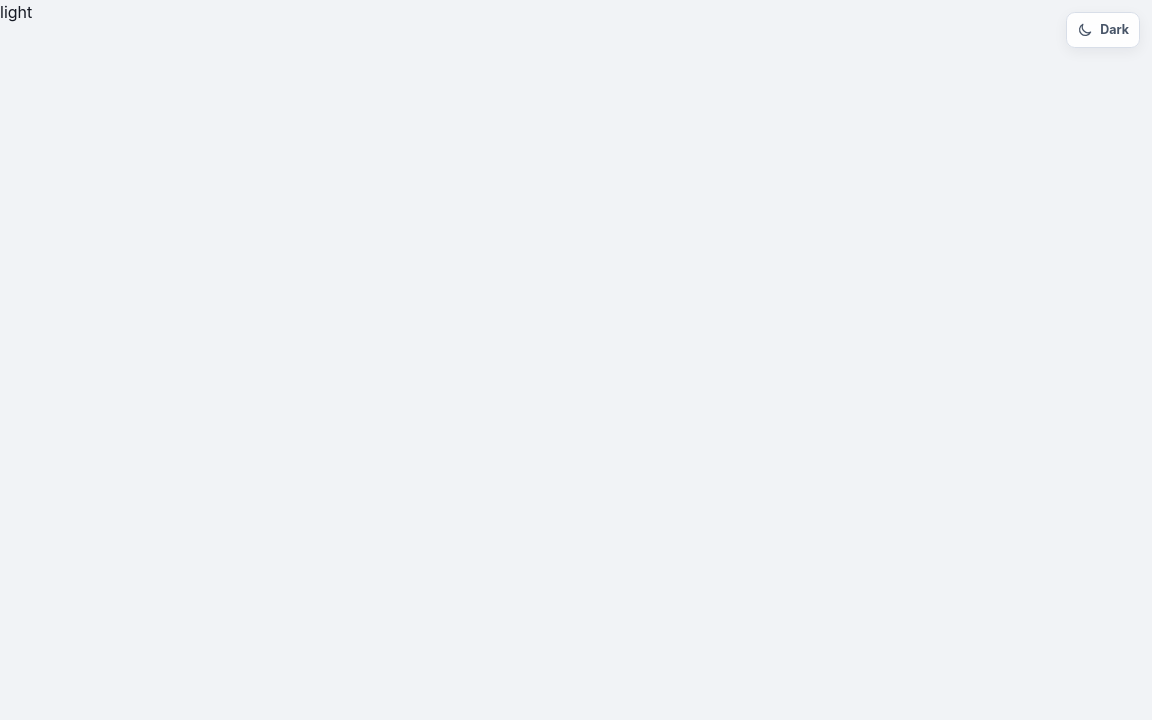
it: ThemeToggle / ThemeContext (theme restoration) › toggles the theme on click and persists the choice
Click the button with aria-label "switch to dark mode" at (1103, 30), box [1066,12,1140,48]
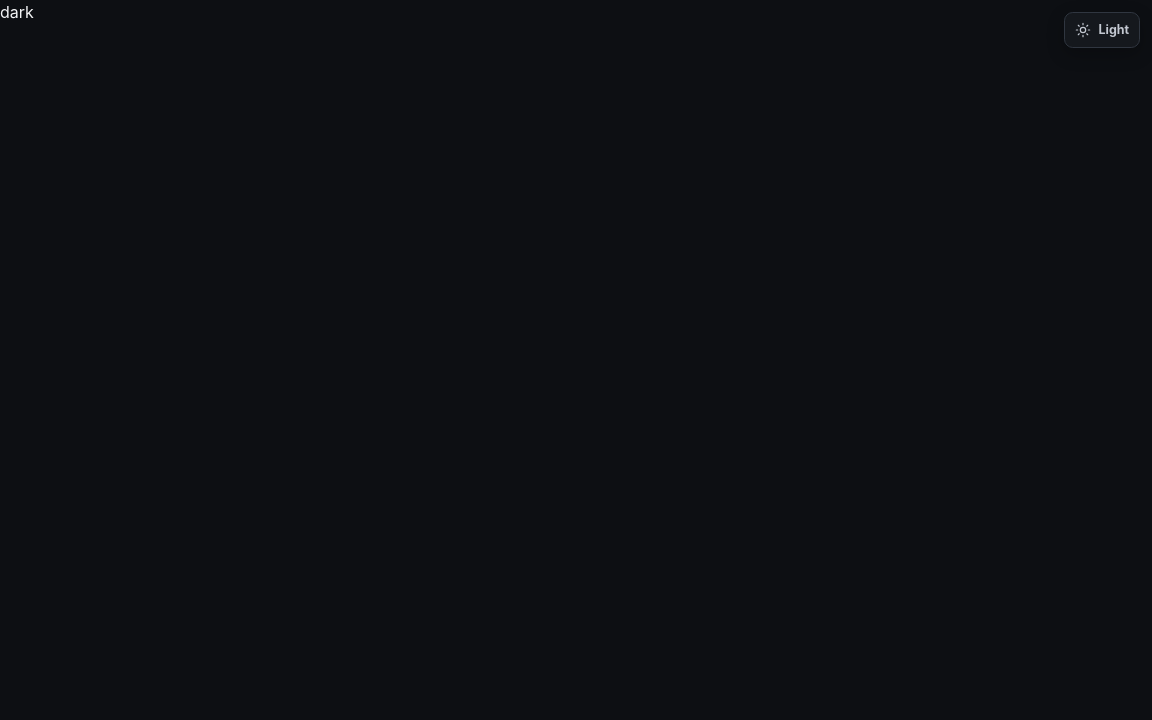
expect the text with test id "theme" reads "dark": met, box [0,2,34,22]
expect the button with aria-label "switch to light mode" is shown: met, box [1064,12,1140,48]
